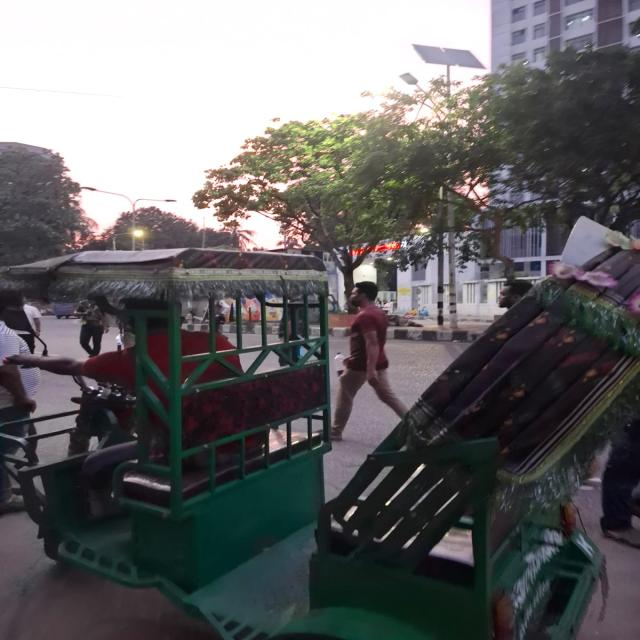person: (331, 281, 408, 441)
